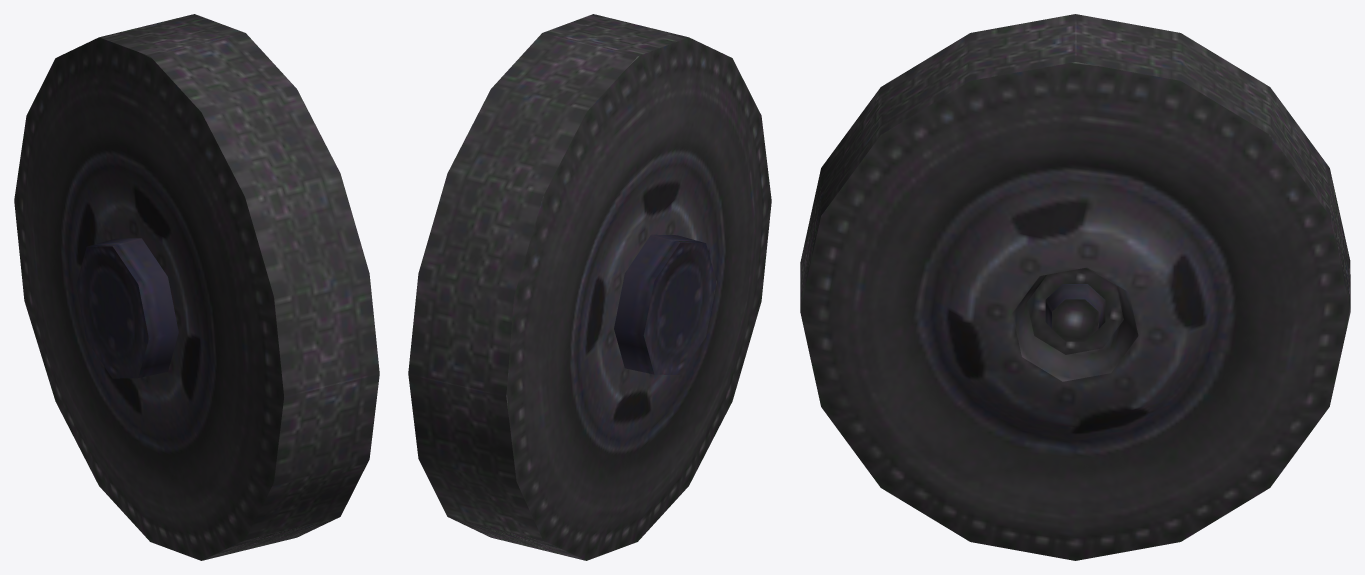
File: Zil130 Wheel FL.fbx
3 renders of one model, left to right at view 1: azimuth 30°, elevation 25°; view 2: azimuth 150°, elevation 25°; view 3: azimuth 270°, elevation 25°, orthographic. The views are drawn at different scales.
Parts seen in each view (by area): view 1: Zil130 Wheel FL; view 2: Zil130 Wheel FL; view 3: Zil130 Wheel FL.
Part boxes in pixels (x1,y1,x2,y2): Zil130 Wheel FL: [14, 14, 379, 560]; Zil130 Wheel FL: [408, 14, 771, 560]; Zil130 Wheel FL: [800, 14, 1350, 560].
Size of the model in its own units: 0.382 by 1.09 by 1.09.
